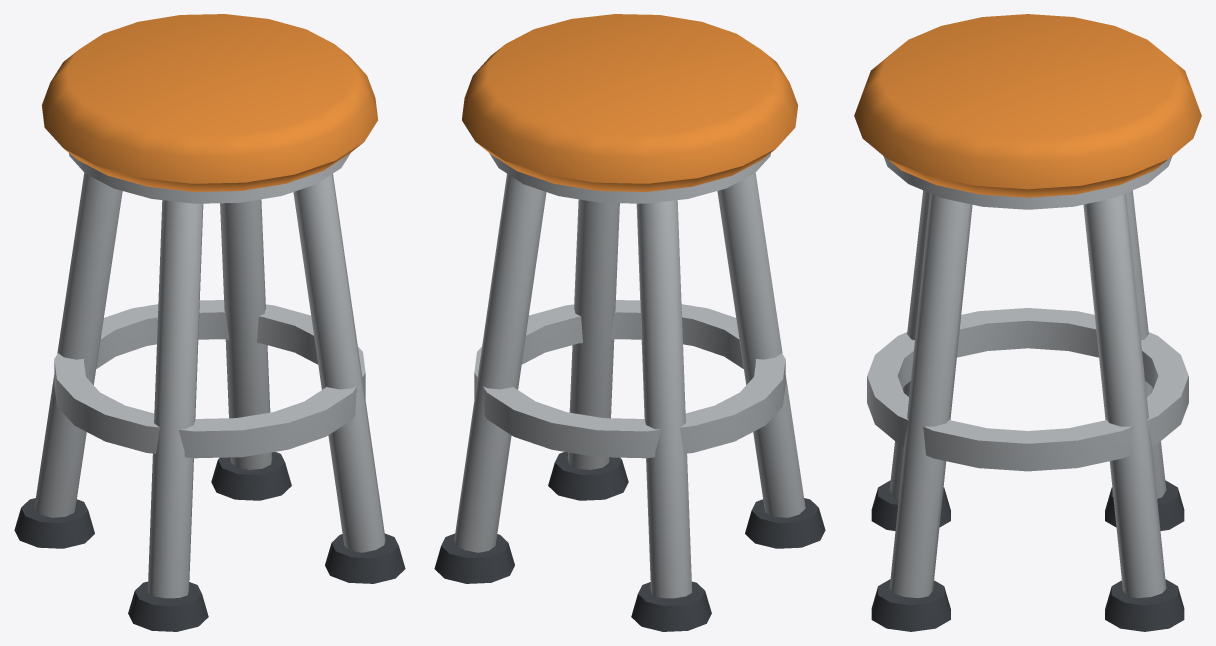
Rendered from SM_ShopStool_01.glb.
The picture shows the model from 3 angles, left to right: view 1: azimuth 30°, elevation 25°; view 2: azimuth 150°, elevation 25°; view 3: azimuth 270°, elevation 25°; orthographic projection. The views are drawn at different scales.
Visible parts, largest first — view 1: SM_ShopStool_01; view 2: SM_ShopStool_01; view 3: SM_ShopStool_01.
Boxes of the visible parts, box(x1,y1,x2,y2) form: SM_ShopStool_01: box(14, 14, 405, 631); SM_ShopStool_01: box(434, 14, 825, 631); SM_ShopStool_01: box(854, 14, 1201, 631).
Bounding box in the file's own units: 0.4 × 0.62 × 0.4.
Materials: 1 (1 with a texture image).
